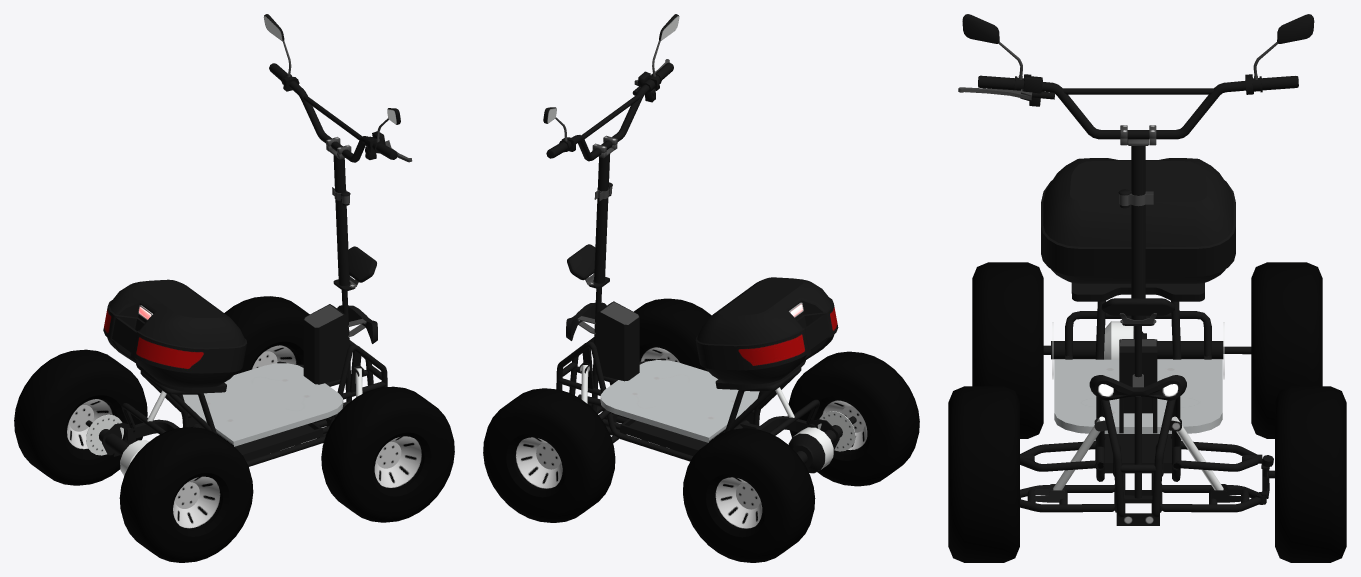
The model's file is wakumodel.glb.
3 views of the same model, side by side, from view 1: azimuth 30°, elevation 25°; view 2: azimuth 150°, elevation 25°; view 3: azimuth 270°, elevation 25° (orthographic). The views are drawn at different scales.
Parts seen in each view (by area): view 1: wakure; view 2: wakure; view 3: wakure.
Part boxes in pixels (x1=…): wakure: x1=14, y1=14, x2=454, y2=562; wakure: x1=483, y1=14, x2=919, y2=562; wakure: x1=948, y1=14, x2=1346, y2=562.
Size of the model in its own units: 1.3 by 1.66 by 1.1.
1 material, 1 textured.
